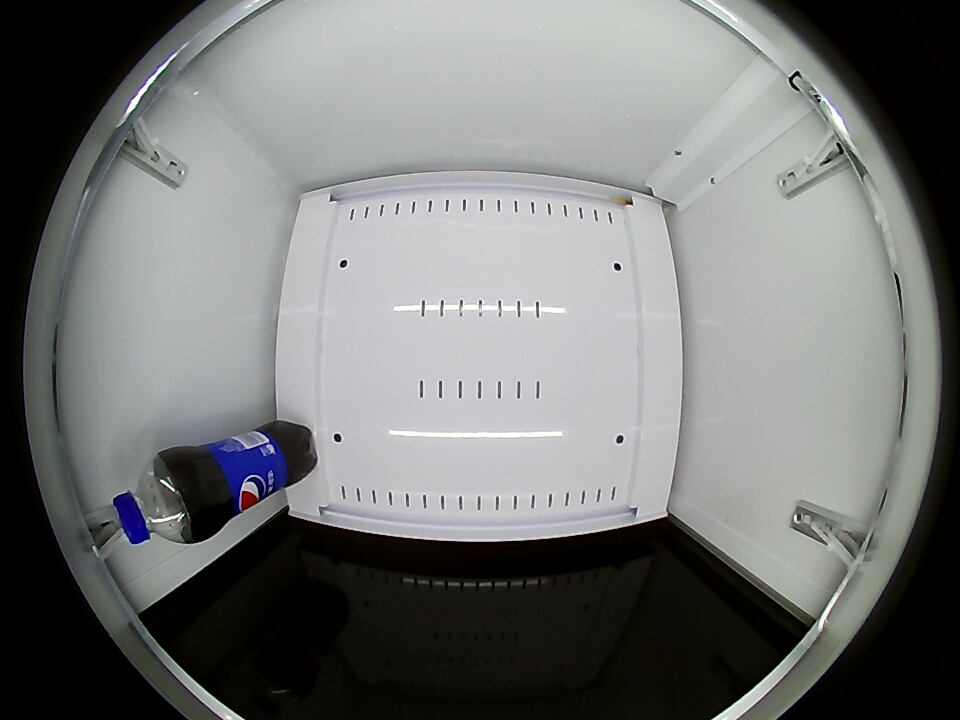baishikele-2: (112, 455, 200, 546)
